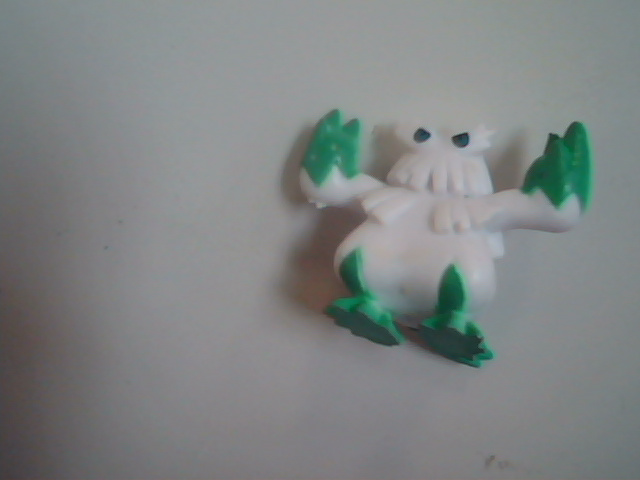abomasnow: (237, 48, 606, 386)
